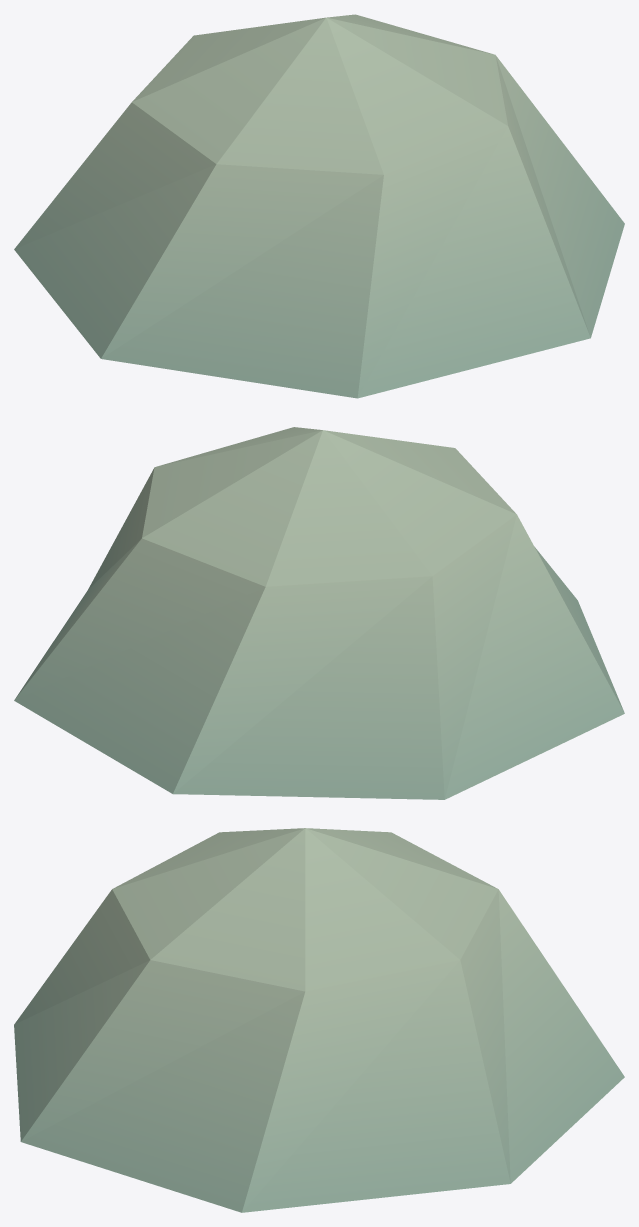
The model's file is cabbage.glb.
3 views of the same model, one above another, from view 1: azimuth 30°, elevation 25°; view 2: azimuth 150°, elevation 25°; view 3: azimuth 270°, elevation 25° (orthographic).
Visible parts, largest first — view 1: cabbage_mesh; view 2: cabbage_mesh; view 3: cabbage_mesh.
Part boxes in pixels (left/top/right/bottom): cabbage_mesh: left=14, top=14, right=624, bottom=398; cabbage_mesh: left=14, top=427, right=624, bottom=799; cabbage_mesh: left=14, top=828, right=624, bottom=1212.
Bounding box in the file's own units: 0.4678 × 0.209 × 0.4586.
